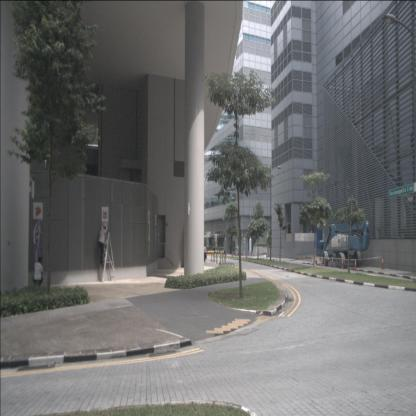human-pedestrian-adult: (99, 224, 109, 268), (32, 256, 43, 288), (203, 244, 207, 263)
movable_object-trafficcone: (353, 258, 358, 271), (381, 257, 385, 269), (341, 258, 344, 268), (331, 258, 334, 267), (321, 258, 324, 266), (315, 258, 318, 266)
